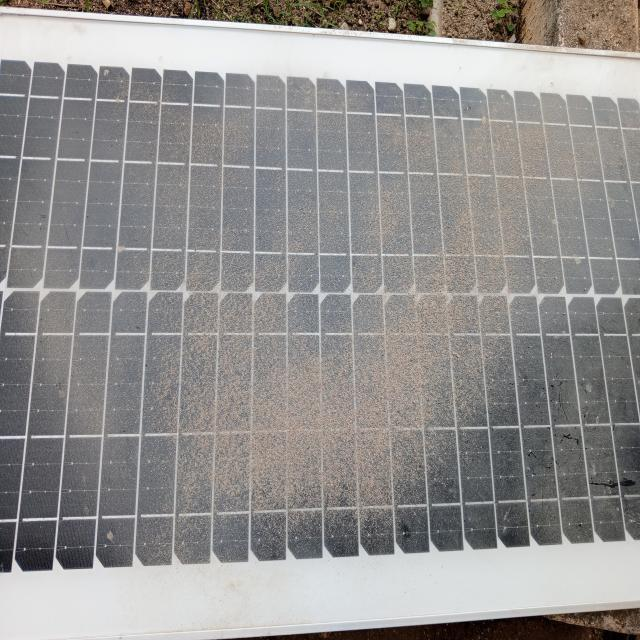Anomaly Solar Panel: (2, 46, 635, 602)
Surface Contaminant: (4, 58, 639, 541)
